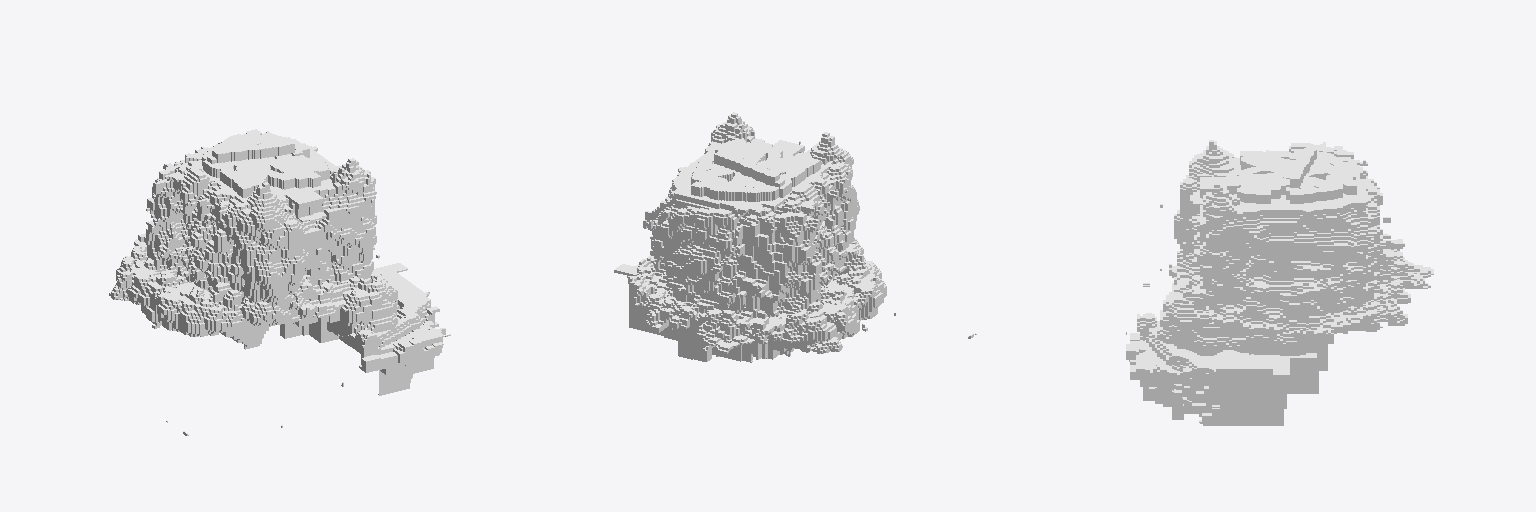
File: Lava_stuff-12.obj
3 renders of one model, left to right at view 1: azimuth 30°, elevation 25°; view 2: azimuth 150°, elevation 25°; view 3: azimuth 270°, elevation 25°, orthographic.
Parts seen in each view (by area): view 1: object 1; view 2: object 1; view 3: object 1.
Part boxes in pixels (x1,y1,x2,y2): object 1: (109,129,450,435); object 1: (614,112,976,362); object 1: (1126,140,1433,425).
Size of the model in its own units: 24.1 by 16 by 21.6.